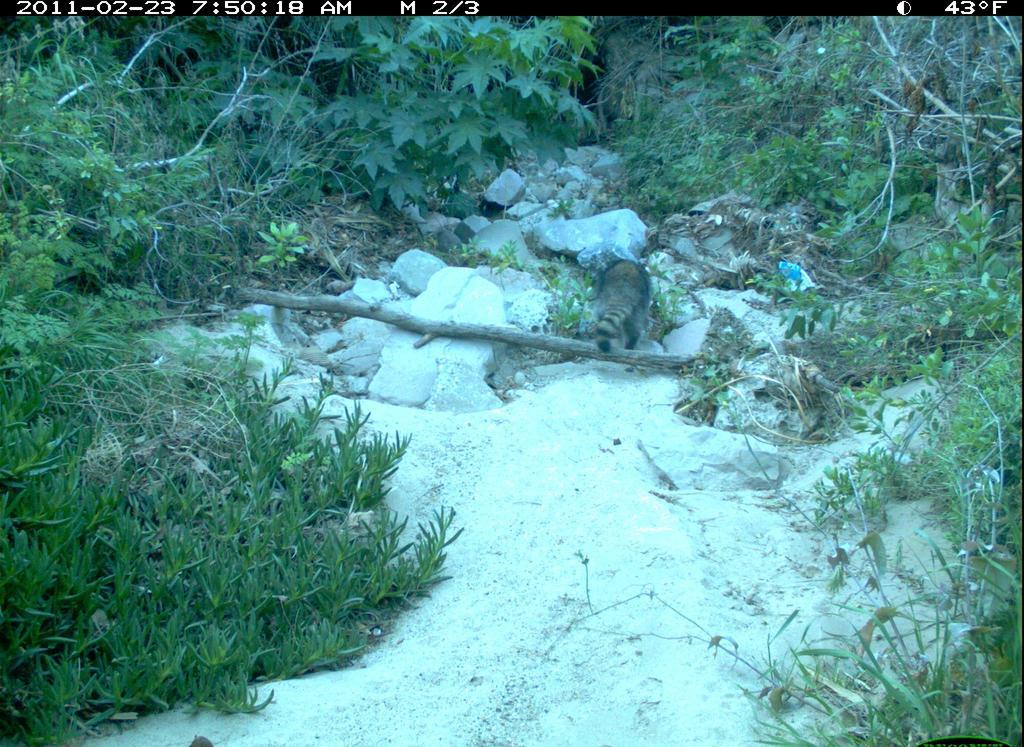raccoon: (582, 255, 661, 363)
